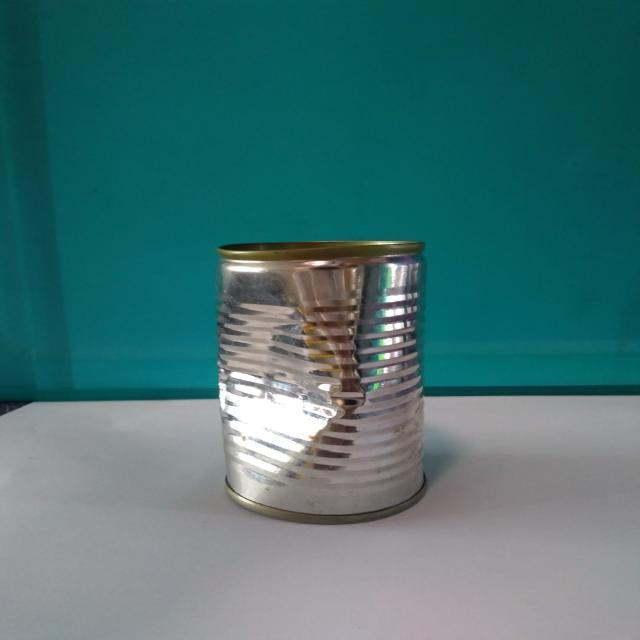metal-can: (214, 238, 434, 528)
